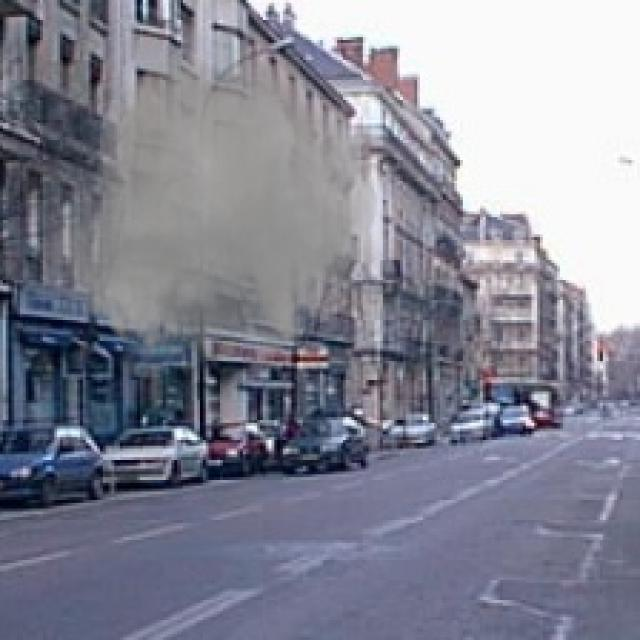smoke: (28, 3, 386, 391)
